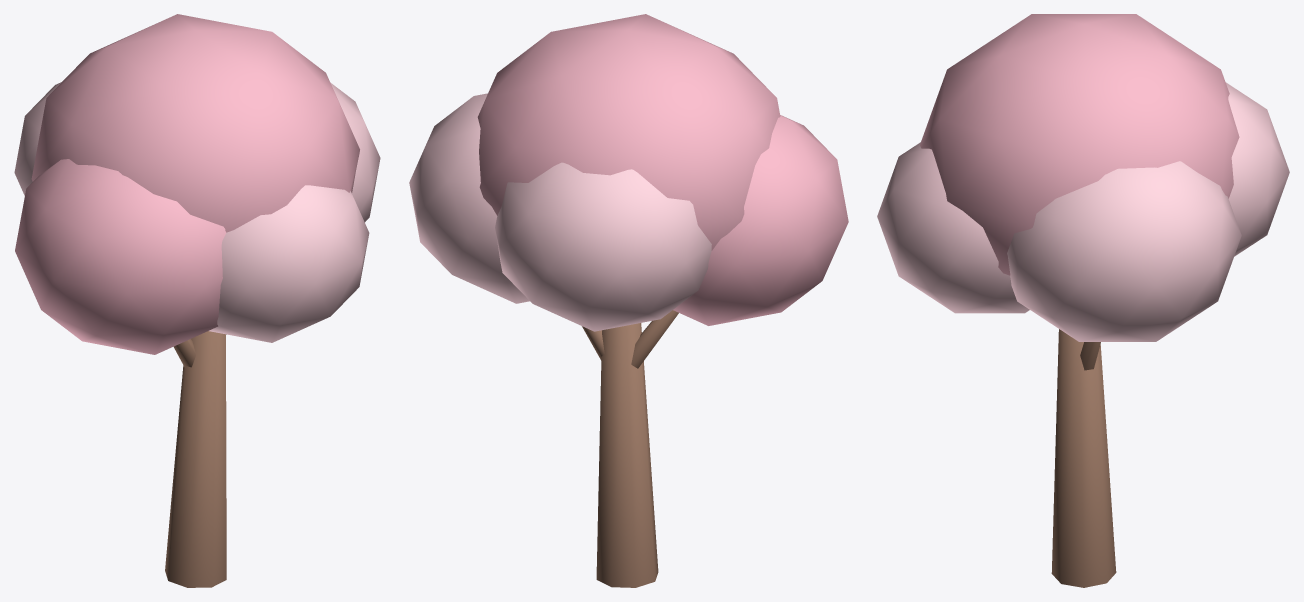
The model's file is tree_blossom.glb.
3 views of the same model, side by side, from view 1: azimuth 30°, elevation 25°; view 2: azimuth 150°, elevation 25°; view 3: azimuth 270°, elevation 25° (orthographic).
Parts seen in each view (by area): view 1: Tree; view 2: Tree; view 3: Tree.
Boxes of the visible parts, x1,y1,x2,y2 form: Tree: (14, 14, 380, 587); Tree: (409, 14, 848, 587); Tree: (877, 14, 1289, 587).
Size of the model in its own units: 3.15 by 4.52 by 3.07.
